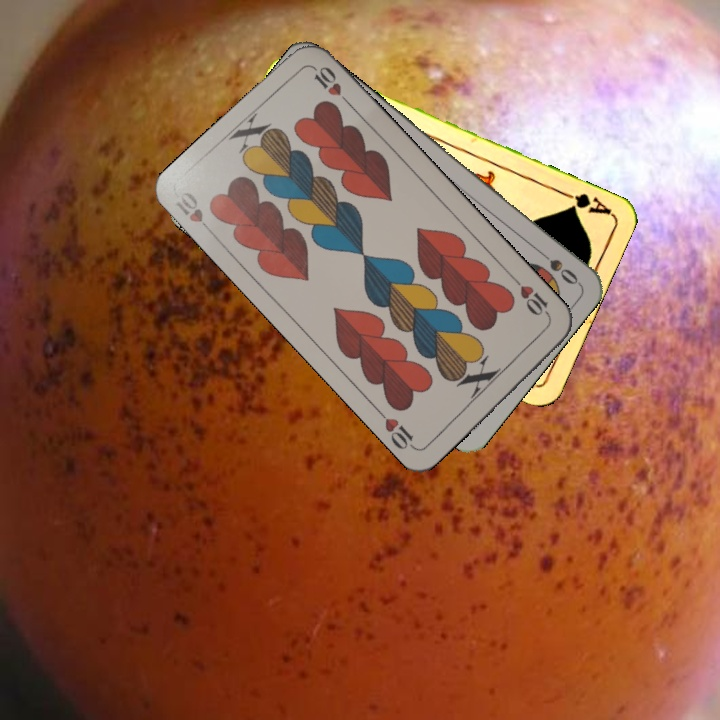GA: (556, 187, 614, 217)
H10: (172, 187, 218, 239), (509, 274, 554, 322)
SO: (532, 244, 582, 288)
